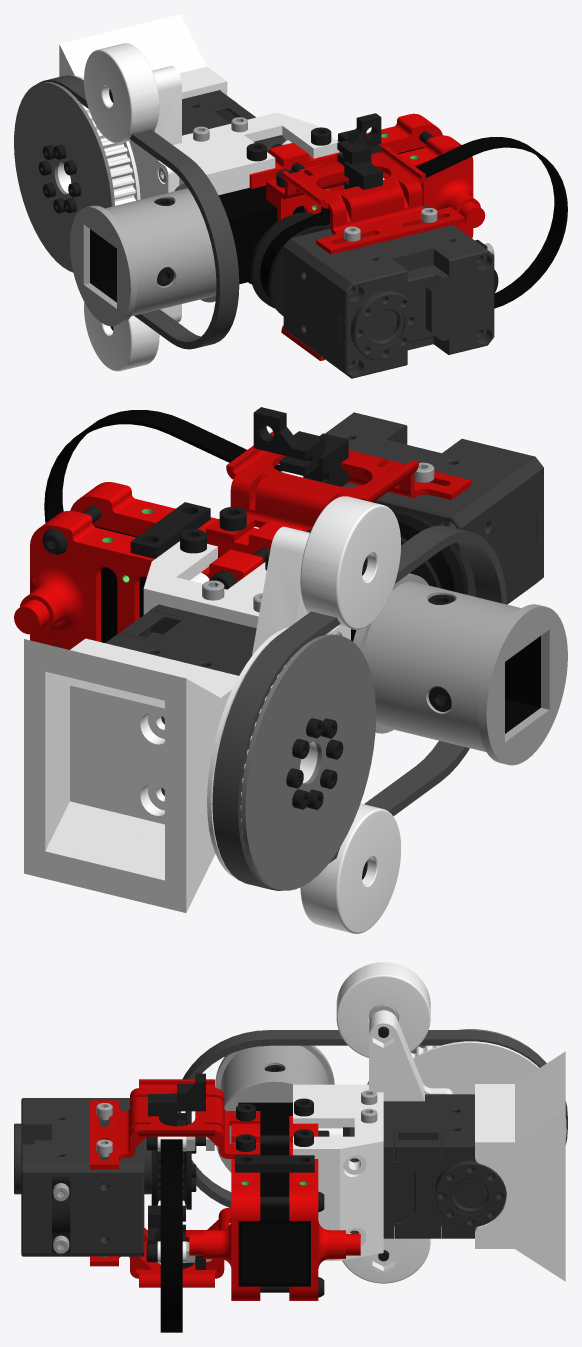
File: male.dae
3 views of the same model, one above another, from view 1: azimuth 30°, elevation 25°; view 2: azimuth 150°, elevation 25°; view 3: azimuth 270°, elevation 25° (orthographic). The views are drawn at different scales.
Parts seen in each view (by area): view 1: node52, node68, node66, node59, node64, node72, node63, node70, node57, node75, node62, node67 (+9 smaller); view 2: node63, node68, node66, node52, node64, node77, node72, node59, node67, node73, node53, node70 (+10 smaller); view 3: node52, node63, node53, node70, node62, node59, node72, node64, node69, node71, node57, node75 (+13 smaller).
Boxes of the visible parts, left/top/right/bottom form: node52: left=283, top=205, right=494, bottom=378; node68: left=14, top=82, right=114, bottom=272; node66: left=70, top=200, right=179, bottom=326; node59: left=266, top=146, right=465, bottom=254; node64: left=37, top=75, right=239, bottom=349; node72: left=84, top=43, right=159, bottom=143; node63: left=59, top=14, right=227, bottom=99; node70: left=173, top=112, right=339, bottom=195; node57: left=260, top=137, right=567, bottom=308; node75: left=266, top=135, right=485, bottom=238; node62: left=90, top=147, right=424, bottom=302; node67: left=140, top=183, right=216, bottom=307; node63: left=24, top=638, right=238, bottom=912; node68: left=241, top=634, right=375, bottom=890; node66: left=422, top=596, right=567, bottom=765; node52: left=325, top=412, right=543, bottom=604; node64: left=212, top=525, right=507, bottom=890; node77: left=14, top=510, right=263, bottom=649; node72: left=300, top=496, right=400, bottom=629; node59: left=206, top=431, right=471, bottom=541; node67: left=353, top=573, right=473, bottom=740; node73: left=300, top=803, right=400, bottom=933; node53: left=105, top=604, right=256, bottom=795; node70: left=143, top=541, right=350, bottom=639; node52: left=14, top=1098, right=151, bottom=1256; node63: left=475, top=1051, right=565, bottom=1281; node53: left=343, top=1094, right=506, bottom=1238; node70: left=293, top=1084, right=383, bottom=1260; node62: left=238, top=1102, right=310, bottom=1286; node59: left=90, top=1079, right=260, bottom=1169; node72: left=336, top=962, right=430, bottom=1057; node64: left=177, top=1030, right=567, bottom=1207; node69: left=411, top=1041, right=566, bottom=1139; node71: left=367, top=1010, right=453, bottom=1272; node57: left=160, top=1139, right=182, bottom=1332; node75: left=189, top=1123, right=260, bottom=1300.
Bounding box in the file's own units: 0.1278 × 0.094 × 0.1529.
